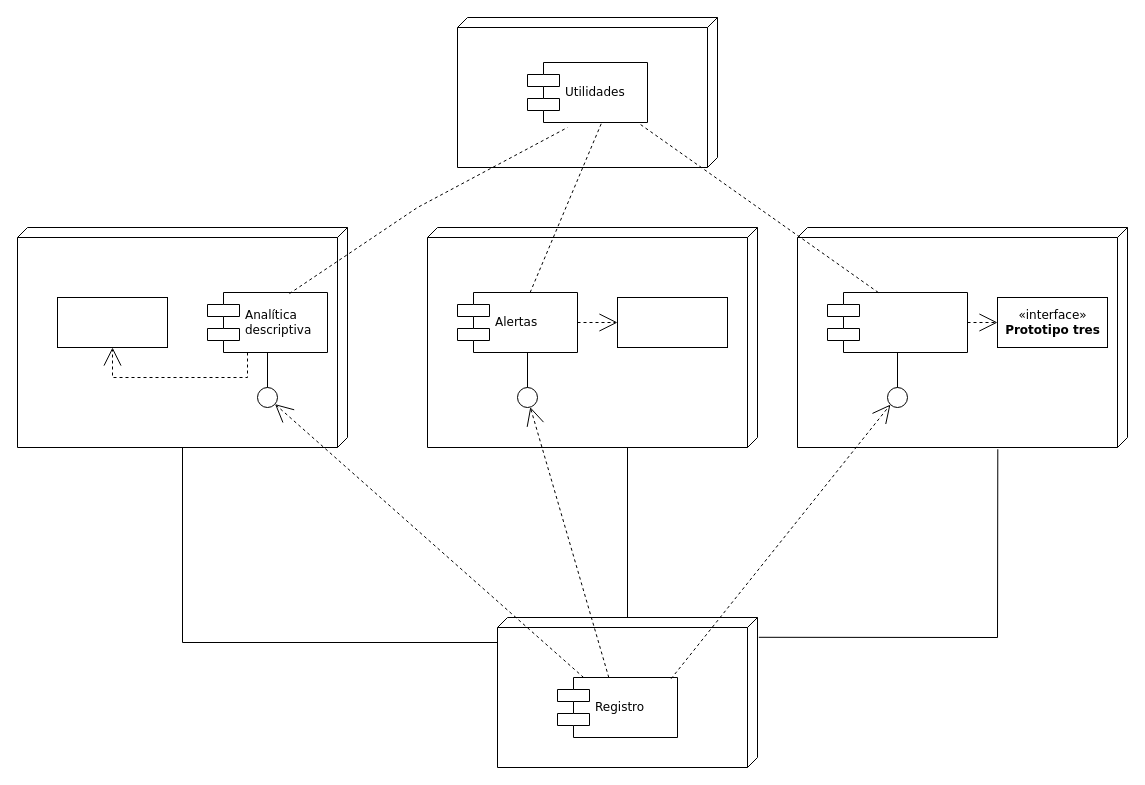
This 1145x785 diagram has some shape labels left out. Each missing label, with the box of its shape:
Geolocalización: (826, 292, 968, 352)
«interface» Prototipo dos: (616, 296, 728, 348)
«interface» Prototipo uno: (56, 296, 168, 348)
